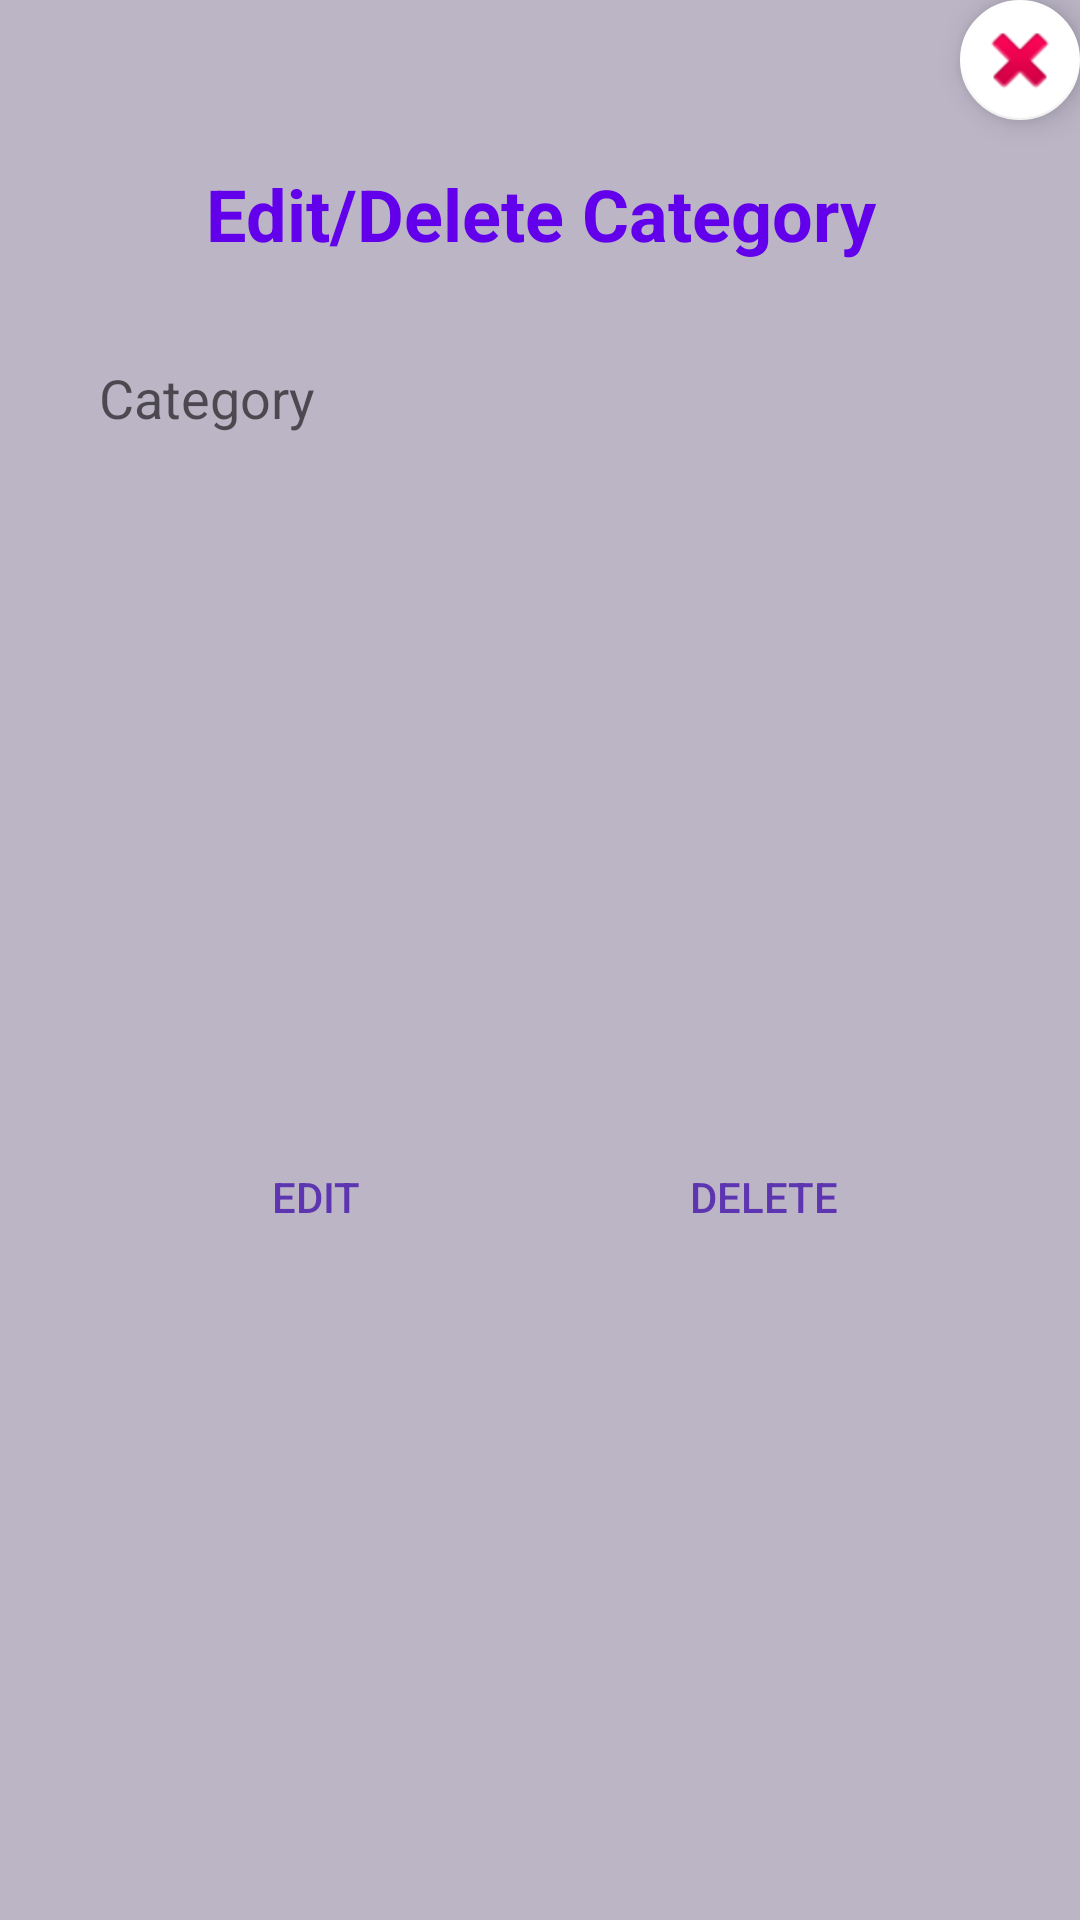

Where icons sit on this 1080 × 1920 app screen, as (x1, y1, x2, y2):
close: (960, 0, 1080, 120)
